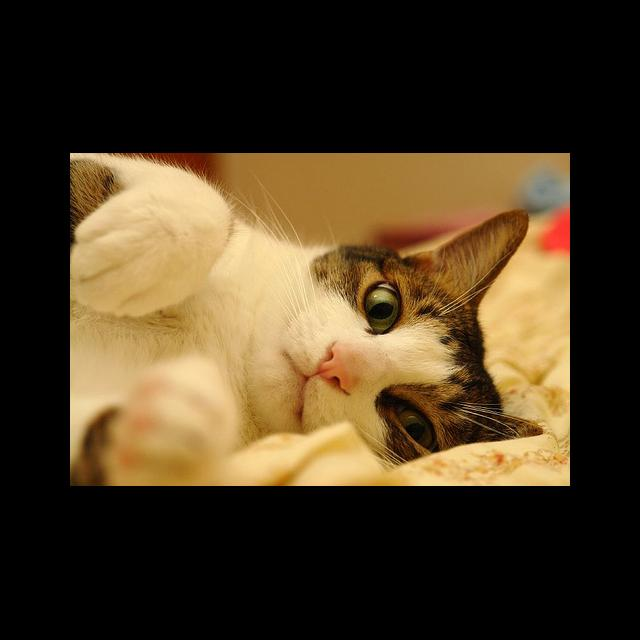animals: (318, 214, 542, 458)
